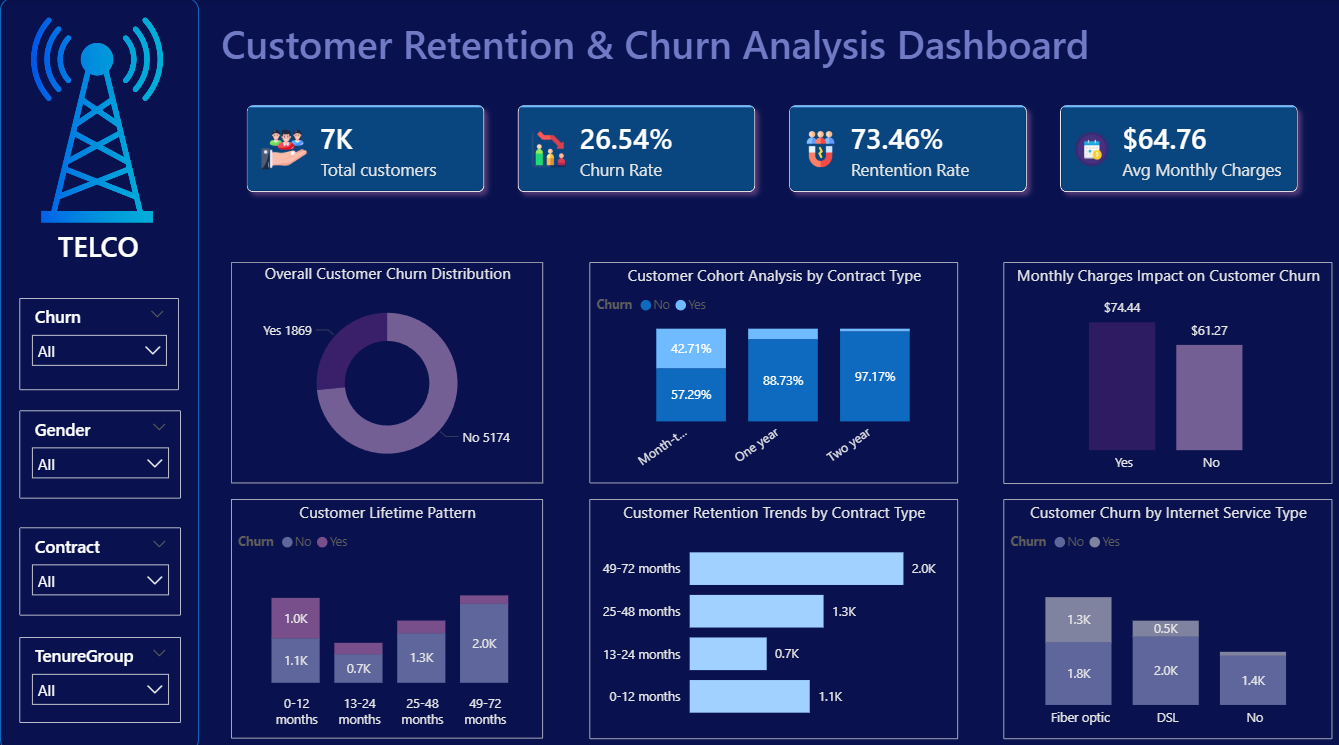

This screenshot's page, from the dashboard's own definition file:
{"tool":"powerbi","page":{"name":"Page 1","canvas":[1280,720],"ordinal":0},"visuals":[{"type":"shape","box":[0,0,190,720],"z":0},{"type":"textbox","box":[36,214,116,48],"z":1000},{"type":"image","box":[28,18,128,196],"z":2000},{"type":"slicer","fields":{"Values":["customer_churn_cleaned.Churn"]},"box":[18,286,152,88],"z":3000},{"type":"slicer","fields":{"Values":["customer_churn_cleaned.Contract"]},"box":[18,506,154,84],"z":4000},{"type":"slicer","fields":{"Values":["customer_churn_cleaned.TenureGroup"]},"box":[18,610,154,82],"z":5000},{"type":"slicer","fields":{"Values":["customer_churn_cleaned.gender"]},"box":[18,394,154,84],"z":6000},{"type":"cardVisual","fields":{"Data":["customer_churn_cleaned.Total customers","customer_churn_cleaned.Churn Rate","customer_churn_cleaned.Rentention Rate","customer_churn_cleaned.Average Monthly Charges"]},"box":[206.7,73.3,1065,141.7],"z":7000},{"type":"textbox","title":"Customer Retention & Churn Analysis Dashboard","box":[206,18,884,50],"z":8000},{"type":"hundredPercentStackedColumnChart","title":"Customer Cohort Analysis by Contract Type","fields":{"Category":["customer_churn_cleaned.Contract"],"Series":["customer_churn_cleaned.Churn"],"Y":["CountNonNull(customer_churn_cleaned.customerID)"]},"box":[563.5,251.9,351.9,211.5],"z":9000},{"type":"donutChart","title":"Overall Customer Churn Distribution","fields":{"Category":["customer_churn_cleaned.Churn"],"Y":["CountNonNull(customer_churn_cleaned.customerID)"]},"box":[221.2,251.9,298.1,211.5],"z":10000},{"type":"columnChart","title":"Customer Lifetime Pattern","fields":{"Series":["customer_churn_cleaned.Churn"],"Y":["CountNonNull(customer_churn_cleaned.customerID)"],"Category":["customer_churn_cleaned.TenureGroup"]},"box":[221.2,478.8,298.1,228.8],"z":11000},{"type":"clusteredBarChart","title":"Customer Retention Trends by Contract Type","fields":{"Y":["CountNonNull(customer_churn_cleaned.customerID)"],"Category":["customer_churn_cleaned.TenureGroup"]},"box":[563,479,352,229],"z":12000},{"type":"clusteredColumnChart","title":"Monthly Charges Impact on Customer Churn","fields":{"Category":["customer_churn_cleaned.Churn"],"Y":["Avg(customer_churn_cleaned.MonthlyCharges)"]},"box":[958,252,314,212],"z":13000},{"type":"columnChart","title":"Customer Churn by Internet Service Type","fields":{"Category":["customer_churn_cleaned.InternetService"],"Y":["CountNonNull(customer_churn_cleaned.customerID)"],"Series":["customer_churn_cleaned.Churn"]},"box":[958,479,314,229],"z":14000}]}

Visuals, with their boxes in screenshot pixels (x1, y1, x2, y2), scaled from the page's 1280x720 canvas onto the 1339x745 screenshot:
shape: pyautogui.locateOnScreen(0, 0, 199, 744)
textbox: pyautogui.locateOnScreen(38, 221, 159, 271)
image: pyautogui.locateOnScreen(29, 19, 163, 221)
slicer - customer_churn_cleaned.Churn: pyautogui.locateOnScreen(19, 296, 178, 387)
slicer - customer_churn_cleaned.Contract: pyautogui.locateOnScreen(19, 524, 180, 610)
slicer - customer_churn_cleaned.TenureGroup: pyautogui.locateOnScreen(19, 631, 180, 716)
slicer - customer_churn_cleaned.gender: pyautogui.locateOnScreen(19, 408, 180, 495)
cardVisual - customer_churn_cleaned.Total customers x customer_churn_cleaned.Churn Rate: pyautogui.locateOnScreen(216, 76, 1330, 222)
"Customer Retention & Churn Analysis Dashboard" textbox: pyautogui.locateOnScreen(215, 19, 1140, 70)
"Customer Cohort Analysis by Contract Type" hundredPercentStackedColumnChart: pyautogui.locateOnScreen(589, 261, 958, 479)
"Overall Customer Churn Distribution" donutChart: pyautogui.locateOnScreen(231, 261, 543, 479)
"Customer Lifetime Pattern" columnChart: pyautogui.locateOnScreen(231, 495, 543, 732)
"Customer Retention Trends by Contract Type" clusteredBarChart: pyautogui.locateOnScreen(589, 496, 957, 733)
"Monthly Charges Impact on Customer Churn" clusteredColumnChart: pyautogui.locateOnScreen(1002, 261, 1331, 480)
"Customer Churn by Internet Service Type" columnChart: pyautogui.locateOnScreen(1002, 496, 1331, 733)
